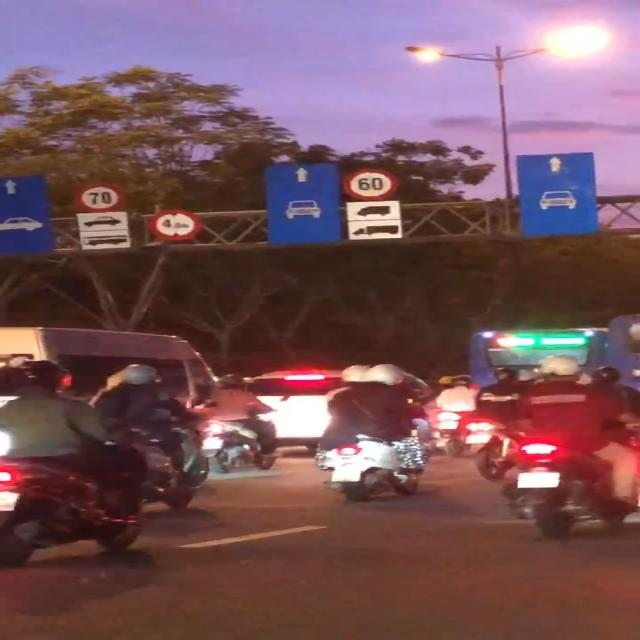Bien bao han che chieu cao: (150, 209, 204, 243)
Bien bao toc do toi da cho phep: (339, 168, 399, 203), (78, 182, 129, 215)
